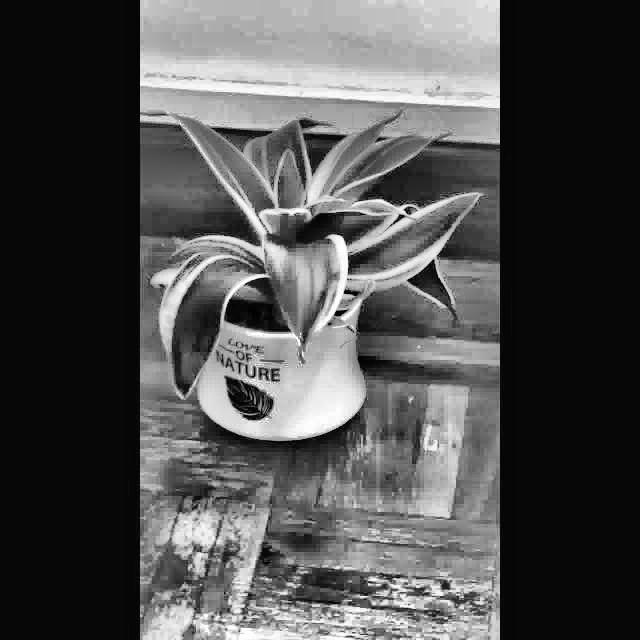plants: (140, 106, 495, 454)
